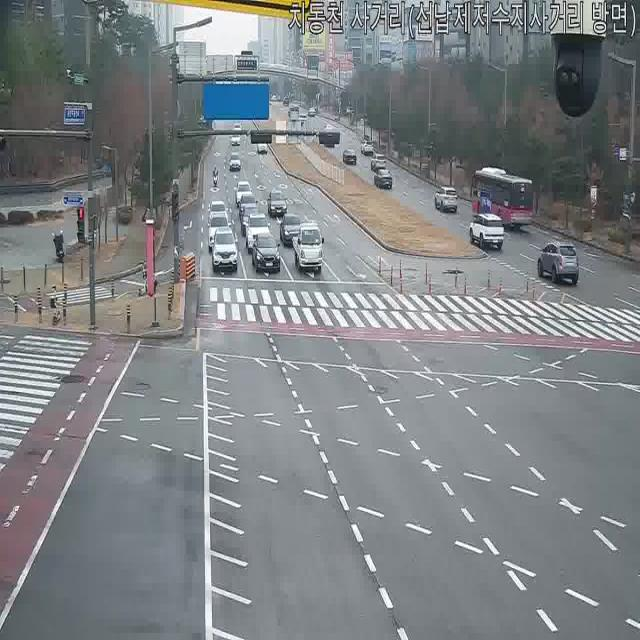Bus: (470, 167, 536, 230)
Car: (536, 239, 580, 285), (468, 212, 504, 250), (210, 228, 238, 274), (251, 232, 281, 274), (244, 214, 272, 252), (206, 213, 232, 251), (279, 212, 305, 246), (434, 186, 459, 212), (266, 189, 288, 218), (240, 207, 262, 235), (238, 193, 258, 221), (208, 200, 228, 226), (235, 180, 253, 208), (374, 168, 392, 190), (370, 153, 387, 171), (342, 148, 357, 165), (228, 153, 242, 171), (361, 140, 374, 156), (288, 105, 300, 121), (230, 130, 241, 146), (256, 140, 268, 154), (324, 122, 334, 133), (307, 106, 316, 118), (282, 96, 291, 107)
Motorcycle: (212, 167, 219, 190)
Truck: (293, 221, 325, 273)
